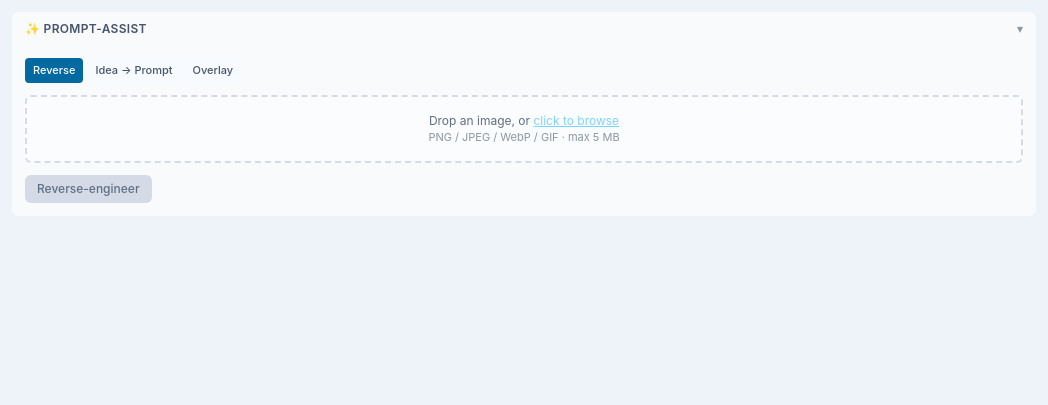
Test case: PromptAssistPanel › starts on Reverse tab and switches to Idea on click
The width and height of the screenshot is (1048, 405).
Expected: the element with test id "reverse-dropzone" is shown, x1=25 y1=94 x2=1023 y2=202
Step 1. Click the tab with test id "prompt-assist-tab-idea" → {"x": 134, "y": 70}, box x1=88 y1=58 x2=180 y2=82
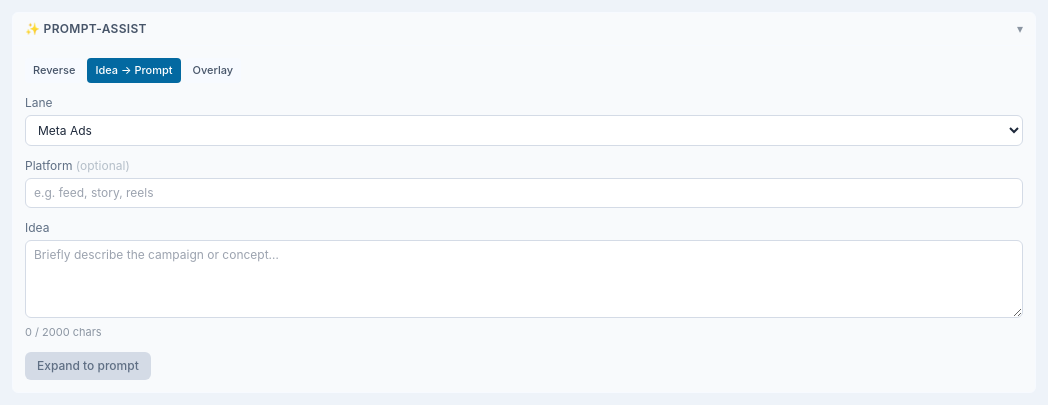
Expected: the element with test id "idea-form" is shown
Expected: the element with test id "reverse-dropzone" is gone
